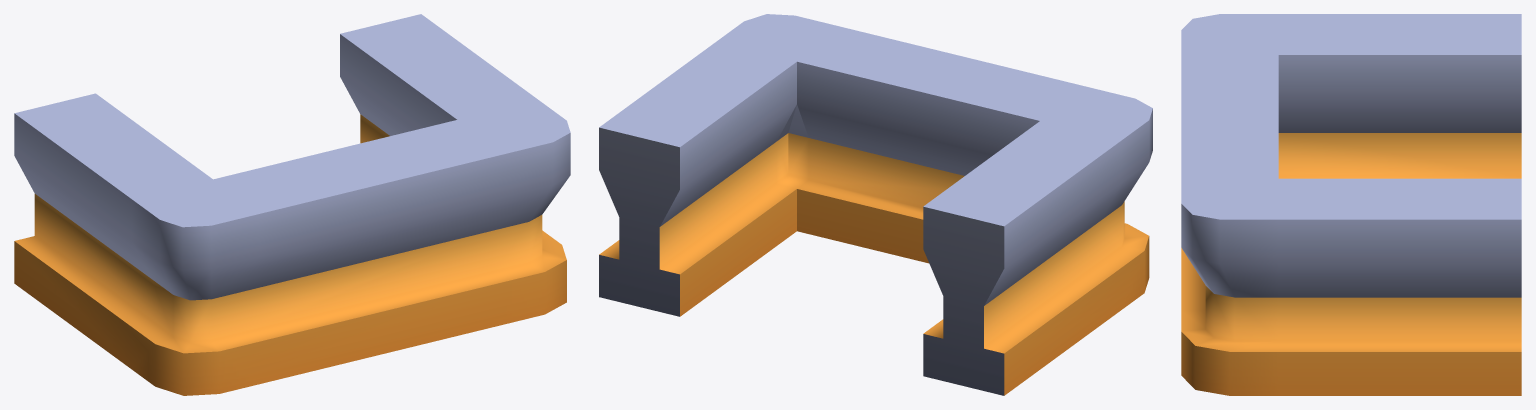
The model's file is kenney-space-station-balcony-rail.glb.
The picture shows the model from 3 angles, left to right: view 1: azimuth 30°, elevation 25°; view 2: azimuth 150°, elevation 25°; view 3: azimuth 270°, elevation 25°; orthographic projection. The views are drawn at different scales.
Visible parts, largest first — view 1: balcony-rail; view 2: balcony-rail; view 3: balcony-rail.
Boxes of the visible parts, bbox=[...] form: balcony-rail: bbox=[14, 14, 570, 395]; balcony-rail: bbox=[599, 14, 1152, 395]; balcony-rail: bbox=[1181, 14, 1521, 395].
Size of the model in its own units: 1 by 0.3999 by 0.7.
1 material, 1 textured.
